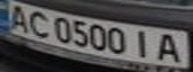0: (106, 25, 130, 56), (48, 14, 72, 44), (87, 21, 109, 52)
5: (69, 18, 90, 48)
A: (151, 30, 187, 64), (3, 2, 33, 33)
C: (24, 8, 54, 38)
I: (130, 27, 157, 58)
